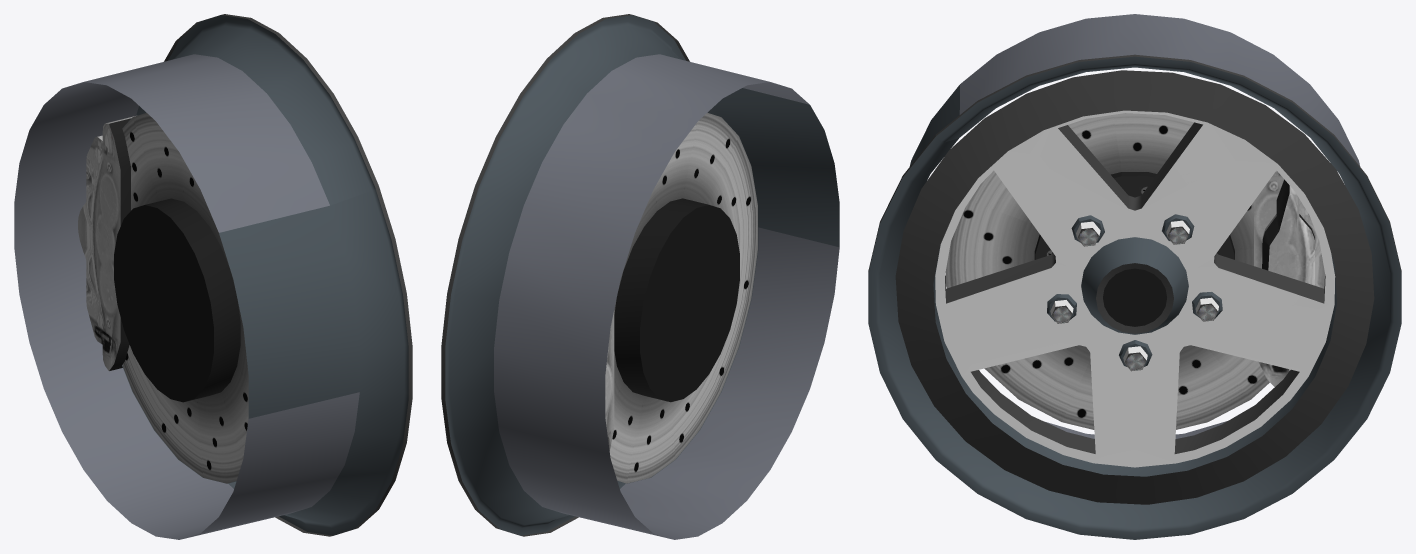
3 views of the same model, side by side, from view 1: azimuth 30°, elevation 25°; view 2: azimuth 150°, elevation 25°; view 3: azimuth 270°, elevation 25° (orthographic).
Visible parts, largest first — view 1: 030, BrakeDisc, Caliper; view 2: 030, BrakeDisc, Caliper; view 3: 030, BrakeDisc, Caliper.
Boxes of the visible parts, x1,y1,x2,y2 form: 030: (14,14,412,539); BrakeDisc: (114,113,248,483); Caliper: (78,115,136,370); 030: (441,14,839,539); BrakeDisc: (609,113,758,483); Caliper: (605,310,614,450); 030: (868,14,1401,539); BrakeDisc: (945,113,1269,429); Caliper: (1254,170,1324,386).
Size of the model in its own units: 0.1725 by 0.5389 by 0.5389.
